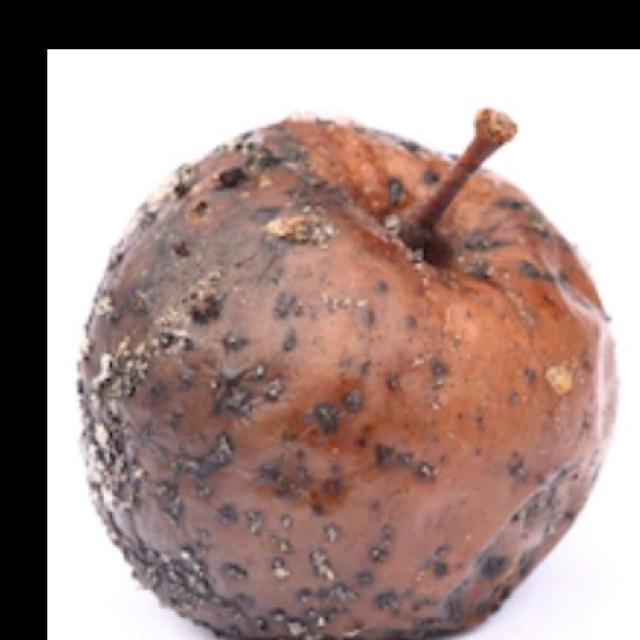Rotten: (100, 121, 640, 640)
